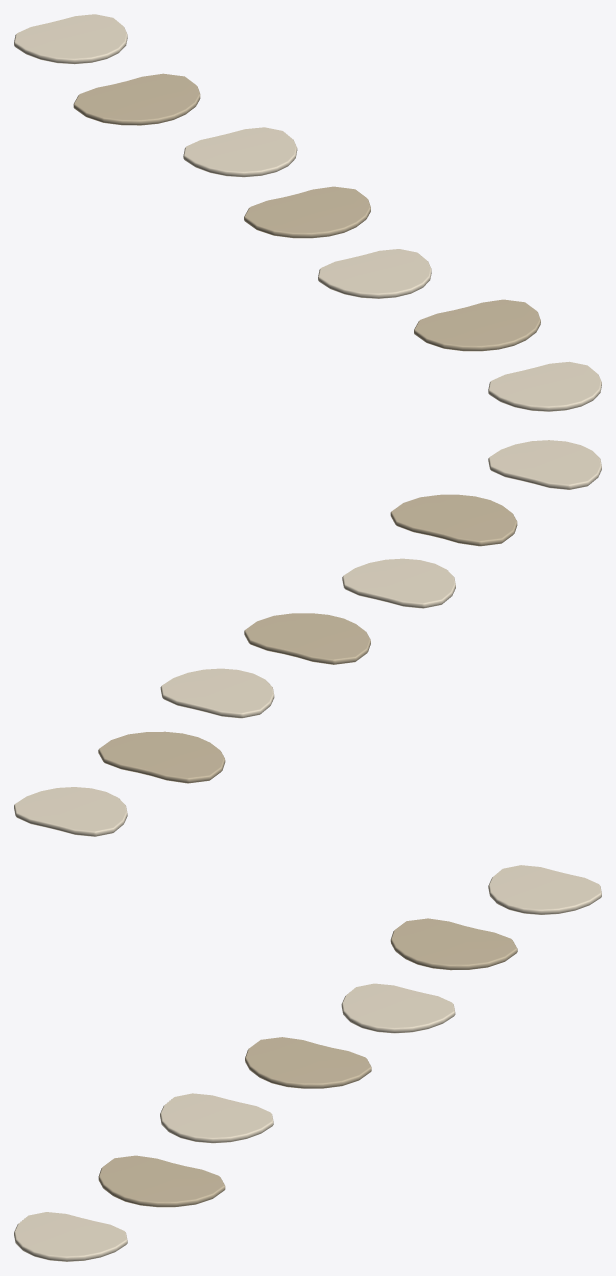
The model's file is stepping_stones.glb.
The picture shows the model from 3 angles, top to bottom: view 1: azimuth 30°, elevation 25°; view 2: azimuth 150°, elevation 25°; view 3: azimuth 330°, elevation 25°; orthographic projection.
Parts seen in each view (by area): view 1: stepping_stones; view 2: stepping_stones; view 3: stepping_stones.
Boxes of the visible parts, x1,y1,x2,y2 form: stepping_stones: (14, 14, 601, 411); stepping_stones: (14, 440, 601, 836); stepping_stones: (14, 865, 601, 1261).
Bounding box in the file's own units: 0.9963 × 0.04 × 6.6.
